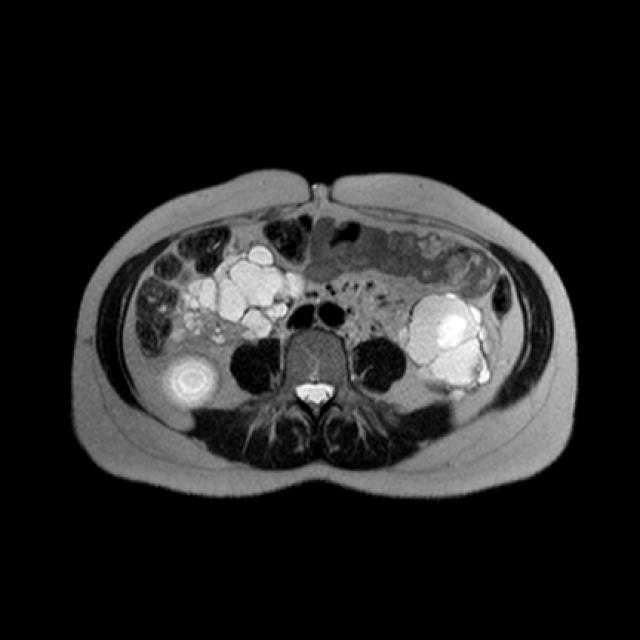sag: (175, 244, 305, 345), (164, 356, 219, 407)
sol: (401, 291, 498, 401)
